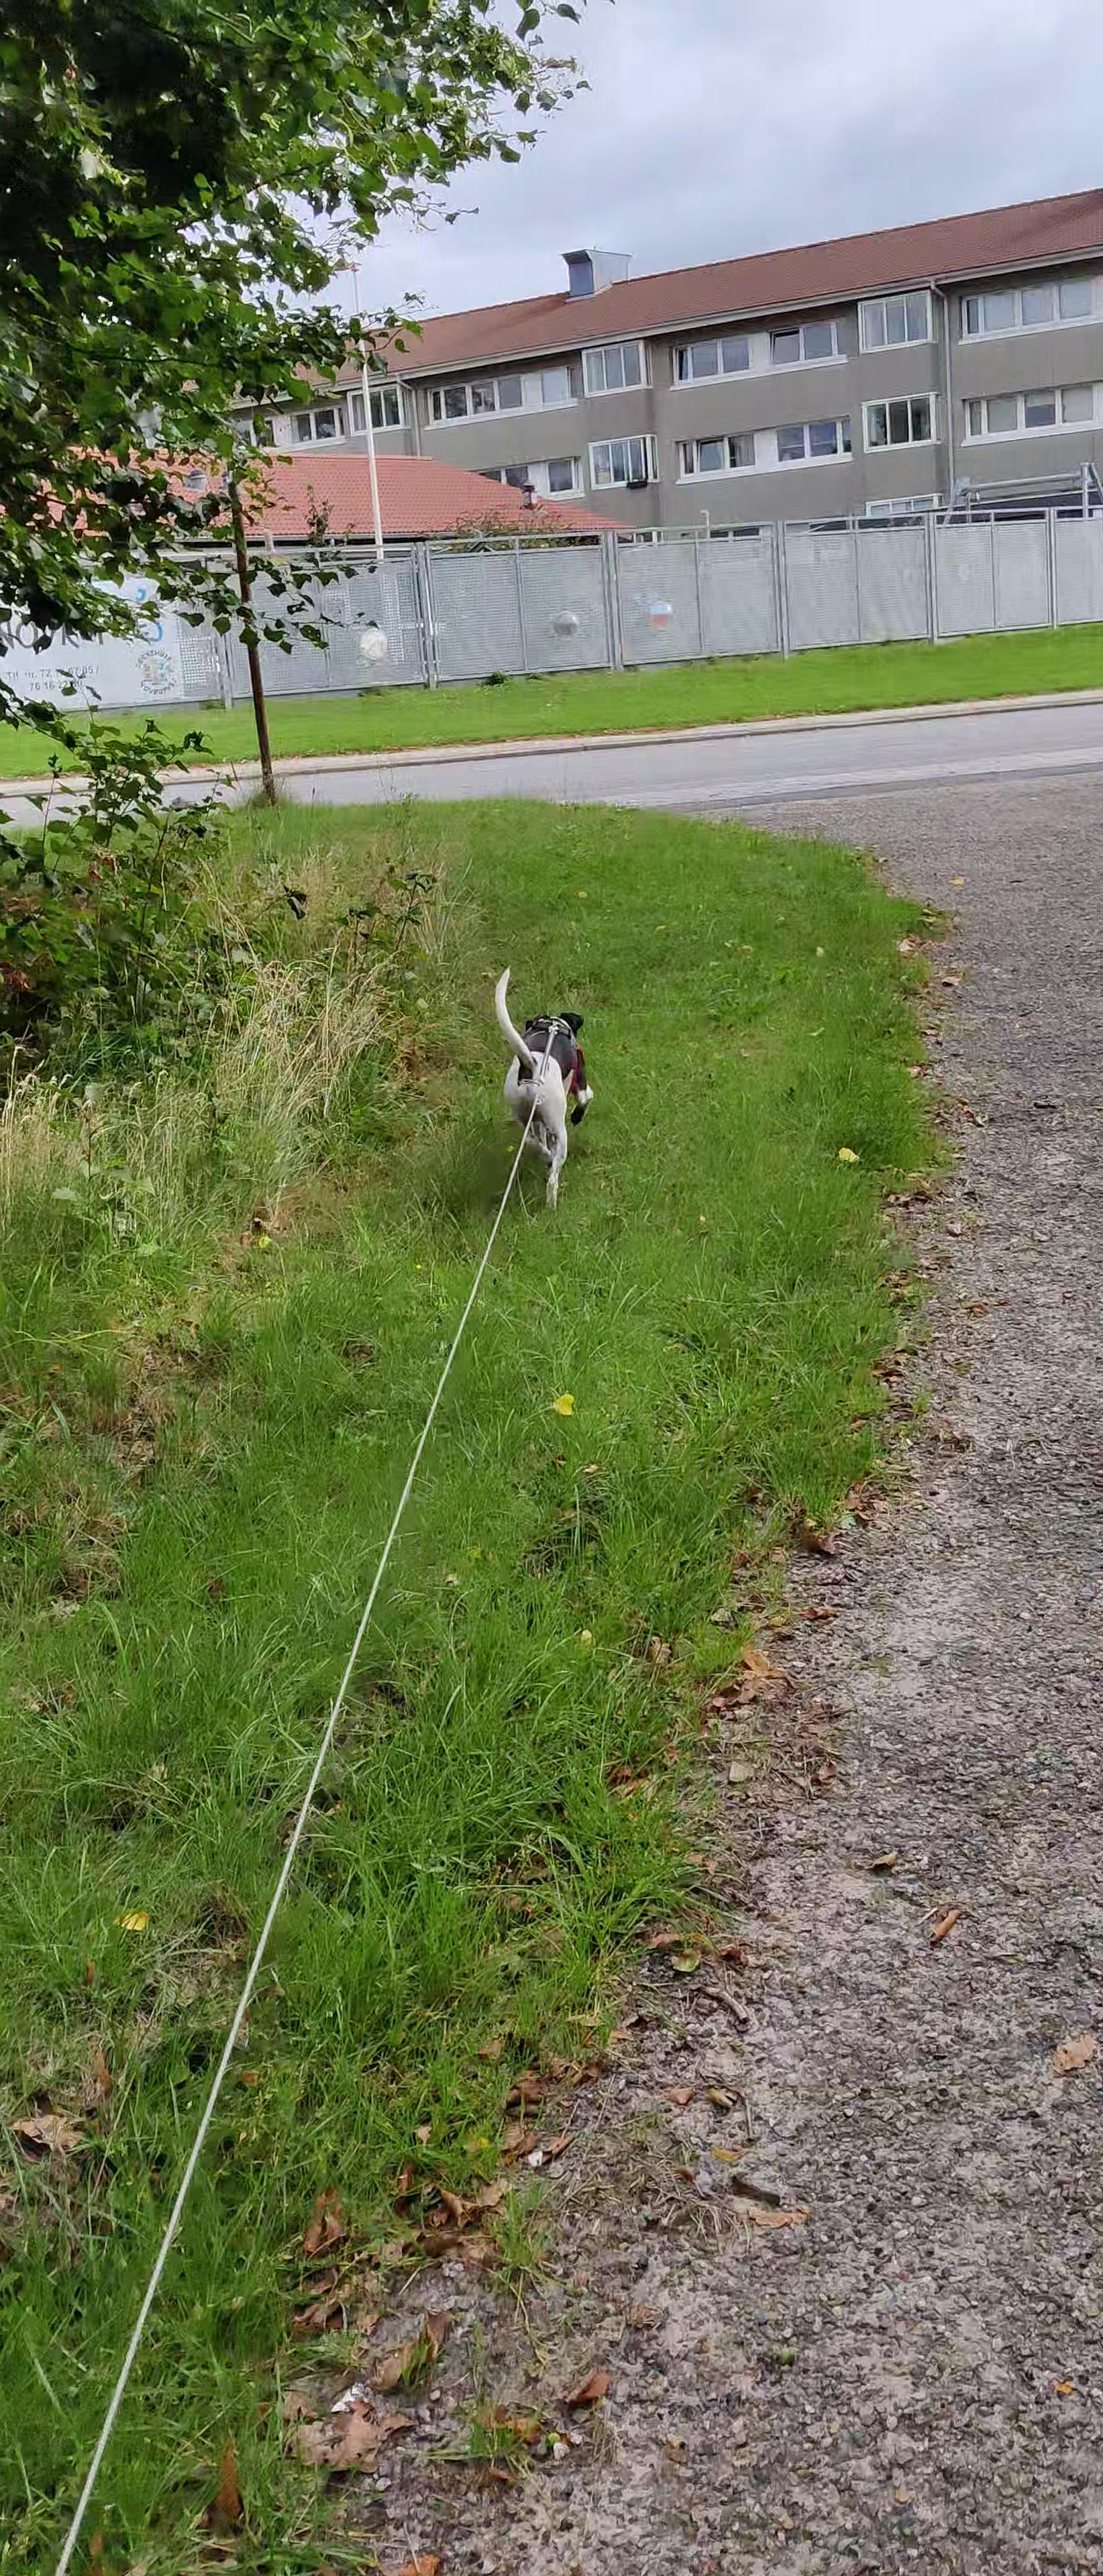Dog: (485, 963, 597, 1214)
